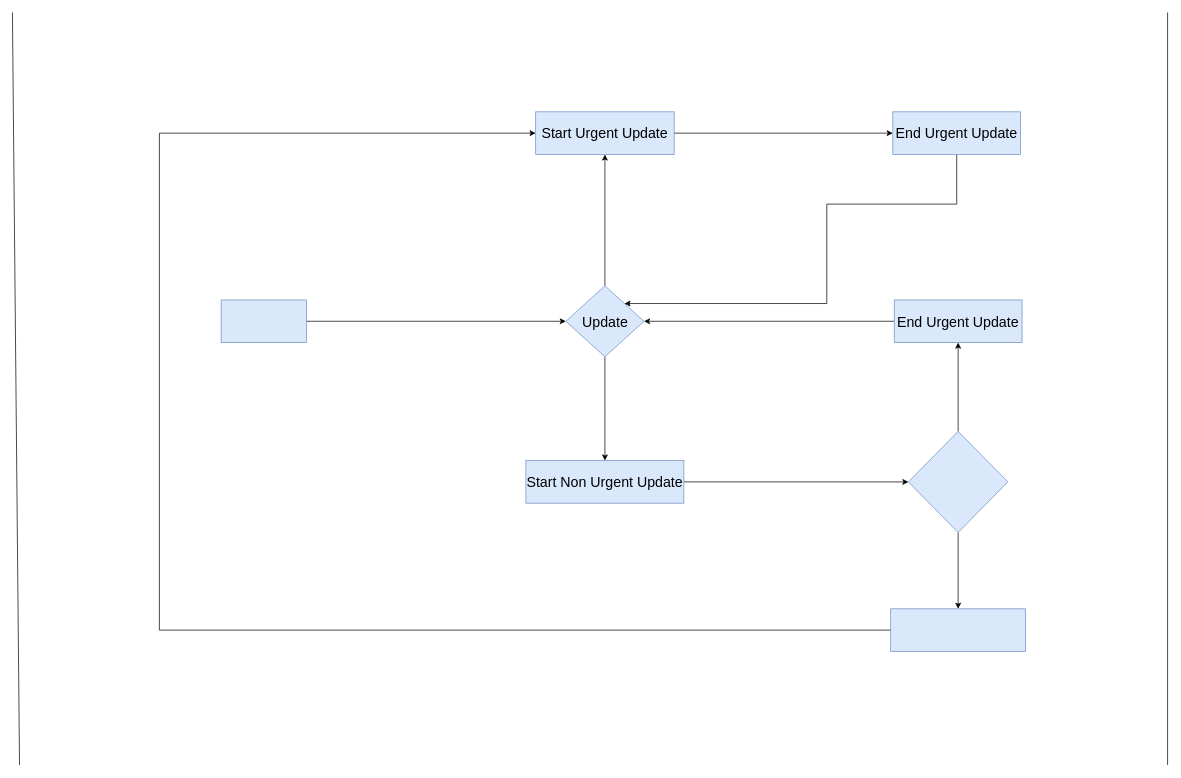
This 1181x778 diagram has some shape labels left out. Here are the shapes that lost their labels. From the top down, the centre of each, then its label:
At pixel 263 321: "User Event".
At pixel 958 481: "Can be interrupted".
At pixel 958 629: "Interrupted by Urgent Update".
